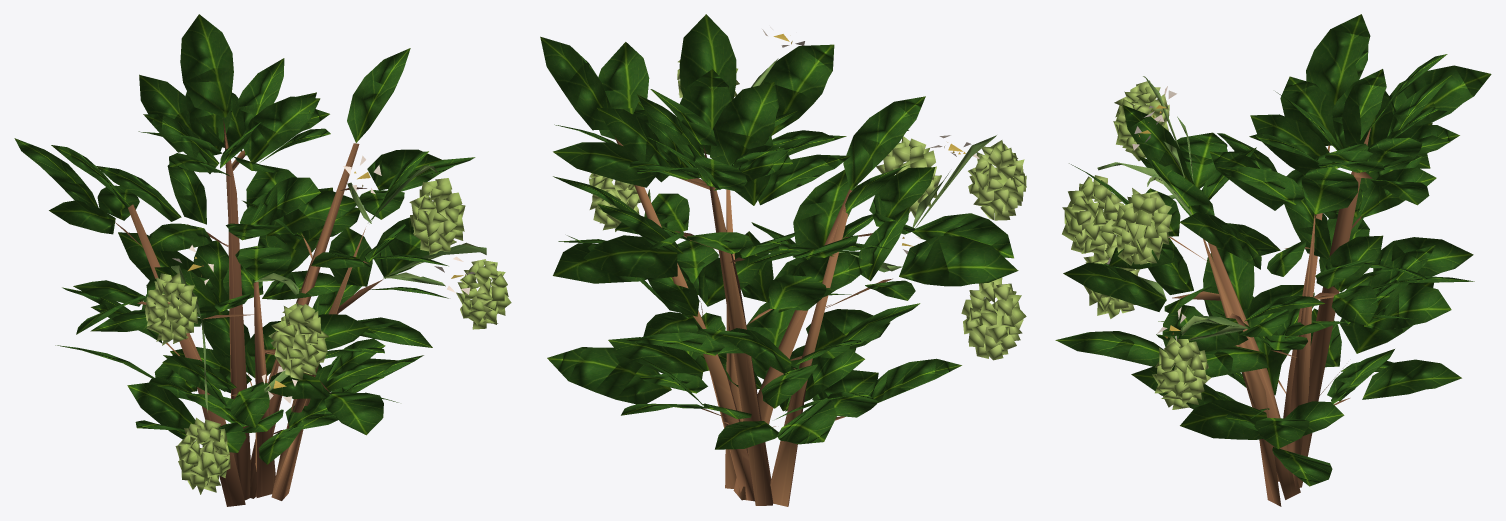
The model's file is NP_Blackberry_Flowering_LOD1.fbx.
3 views of the same model, side by side, from view 1: azimuth 30°, elevation 25°; view 2: azimuth 150°, elevation 25°; view 3: azimuth 270°, elevation 25° (orthographic). The views are drawn at different scales.
Parts seen in each view (by area): view 1: NP_Blackberry_Flowering; view 2: NP_Blackberry_Flowering; view 3: NP_Blackberry_Flowering.
Boxes of the visible parts, x1,y1,x2,y2 form: NP_Blackberry_Flowering: (14,14,511,506); NP_Blackberry_Flowering: (540,14,1026,506); NP_Blackberry_Flowering: (1055,14,1491,506).
Bounding box in the file's own units: 76.34 × 75.61 × 66.72.
